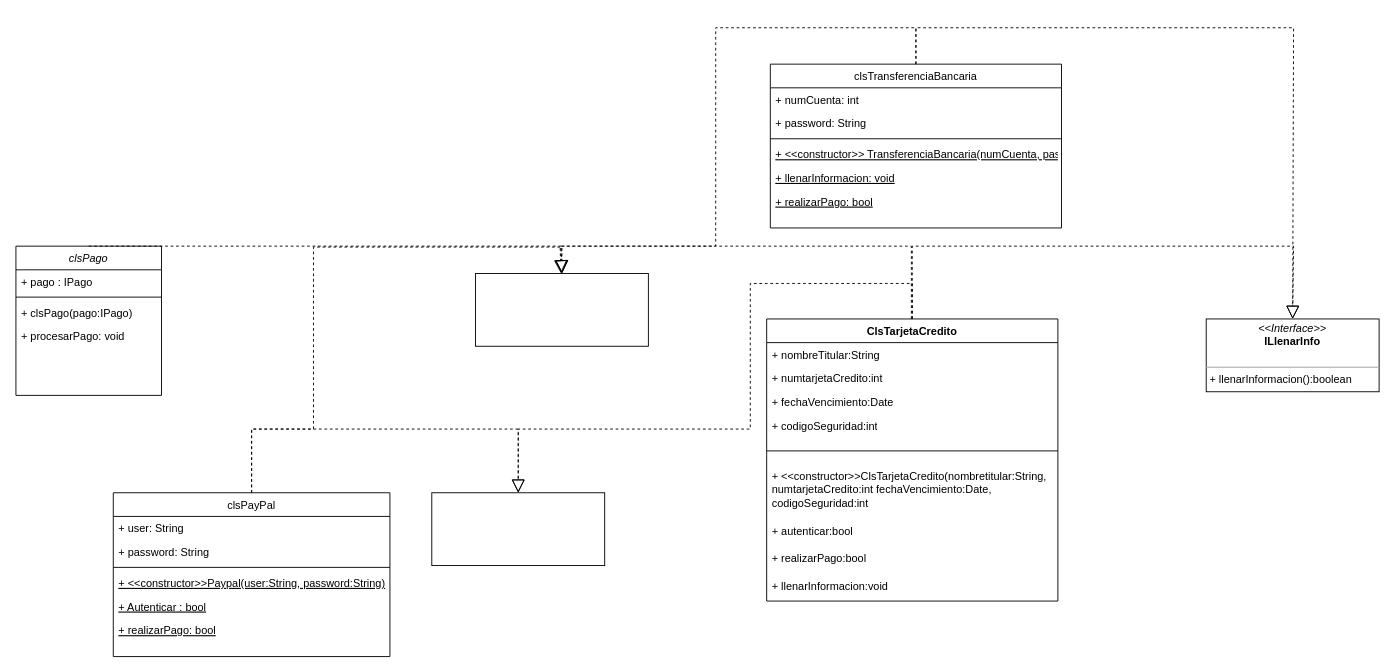
Some shapes in this 1395 by 672 pixel diagram are drawn without their labels. The centre of each missing label's shape, as x and y in pixels:
"<<Interface>> IAuntenticar + autenticar():boolean" goes at [518,529].
"<<Interface>> IPago + realizarPago():boolean" goes at [561,309].
